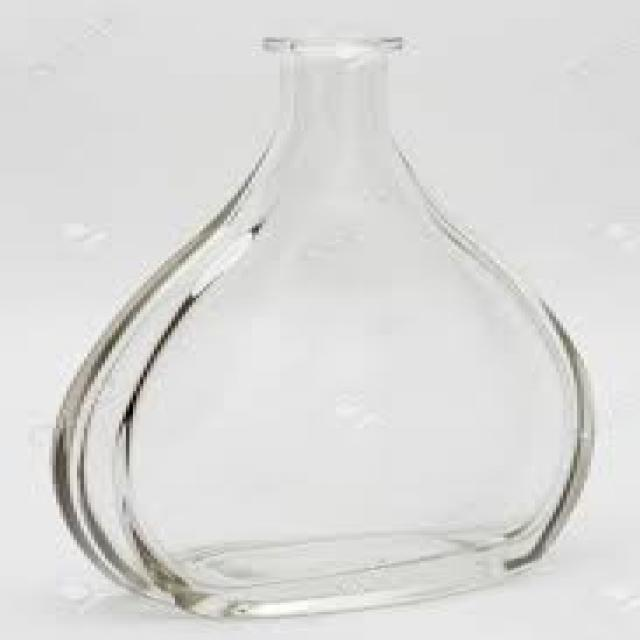Glass-Non-Biodegradable but Recyclable-: (53, 34, 591, 624)
